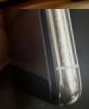scratch: (0, 9, 82, 105)
